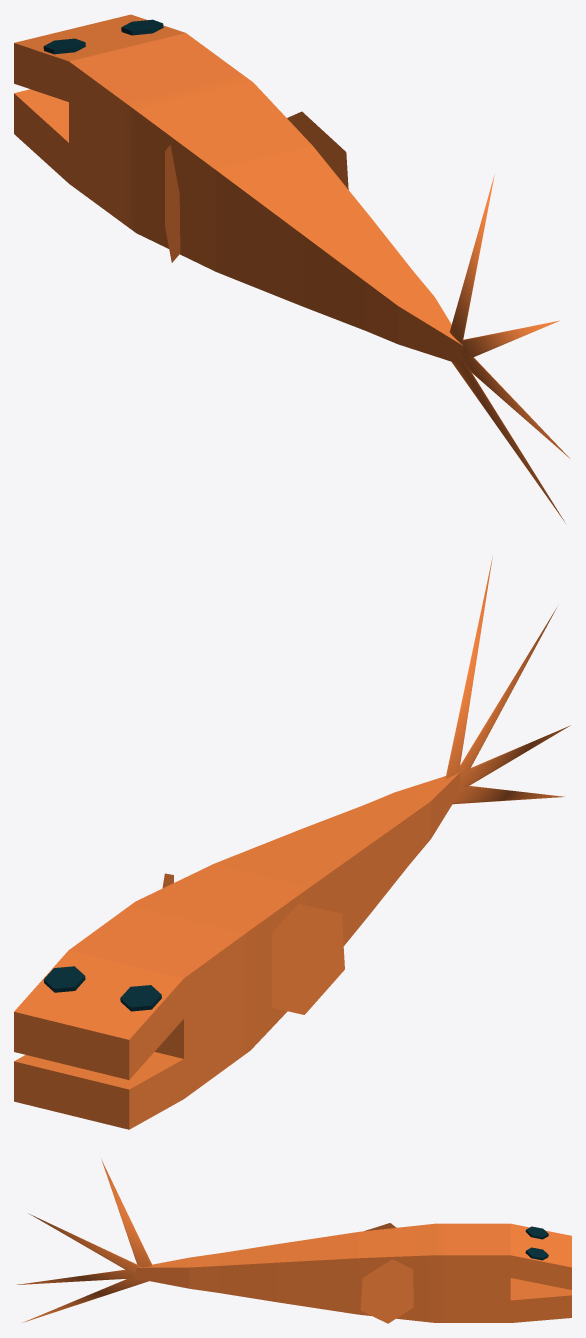
File: poisson1_exp4.fbx
3 renders of one model, top to bottom at view 1: azimuth 30°, elevation 25°; view 2: azimuth 150°, elevation 25°; view 3: azimuth 270°, elevation 25°, orthographic. The views are drawn at different scales.
Parts seen in each view (by area): view 1: poissonpiq; view 2: poissonpiq; view 3: poissonpiq.
Boxes of the visible parts, bbox=[...] form: poissonpiq: bbox=[14, 14, 569, 523]; poissonpiq: bbox=[14, 557, 570, 1129]; poissonpiq: bbox=[17, 1159, 571, 1323].
Size of the model in its own units: 1.46 by 2.45 by 7.46.
